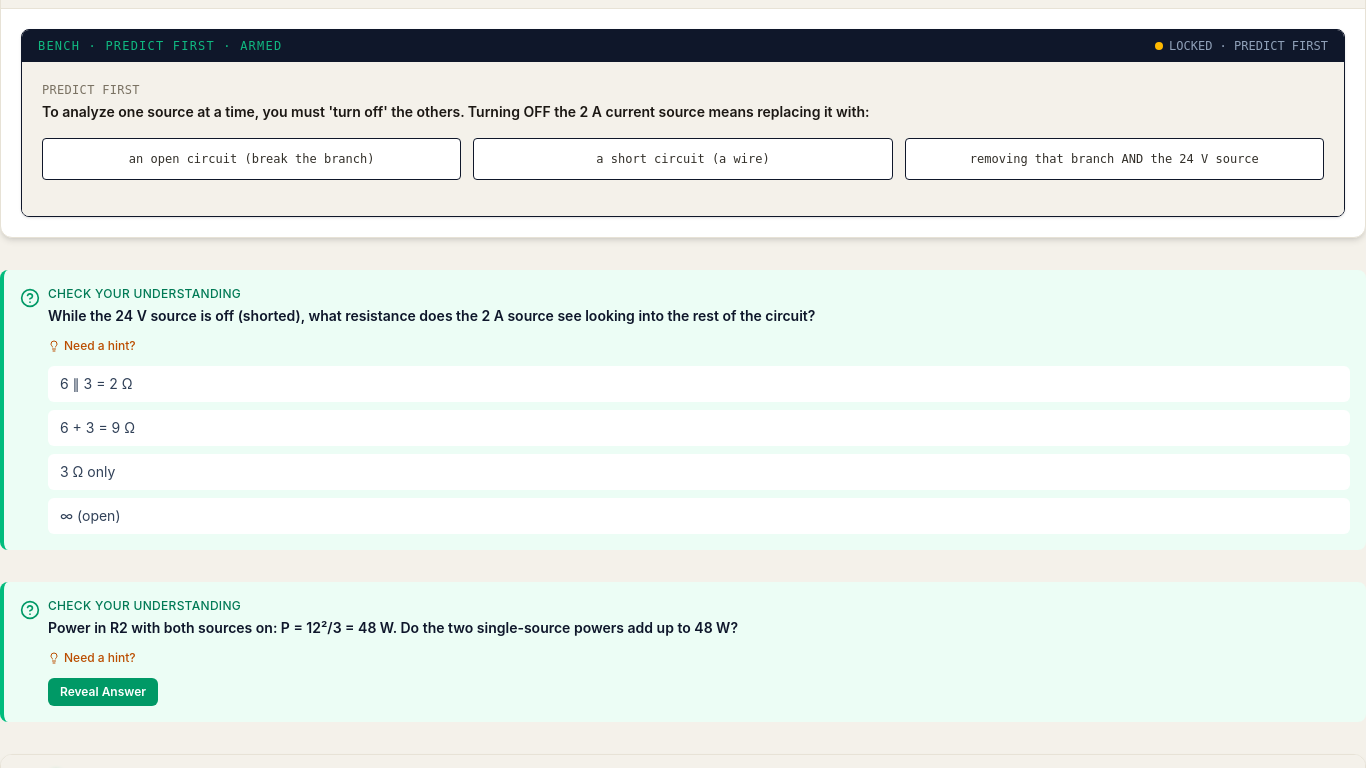
Test case: CircuitTheorems page › answers the superposition concept check correctly
The width and height of the screenshot is (1366, 768).
(page scrolled)
Click the button "6 ∥ 3 = 2 Ω": (96, 384) [48,366,1350,402]
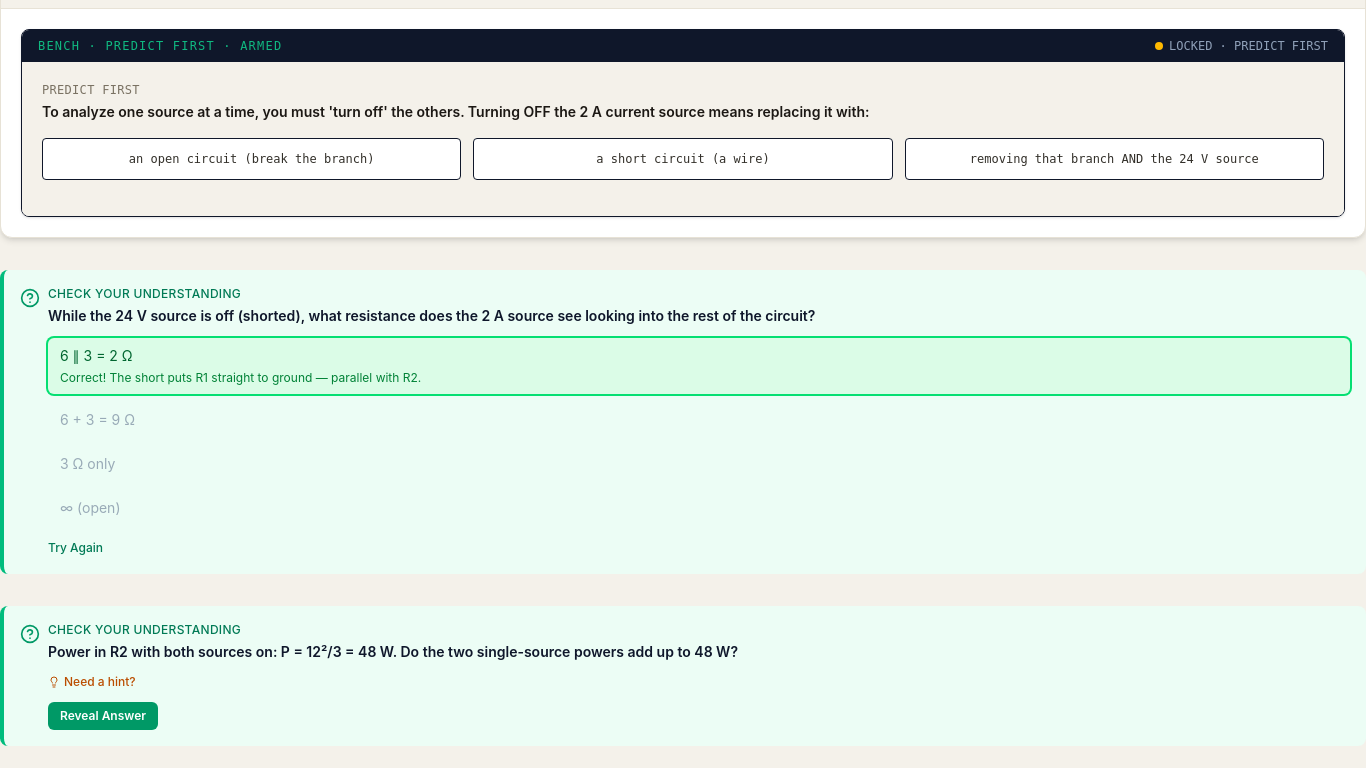
Result: the text "Correct!" is shown at [60,370,421,386]
